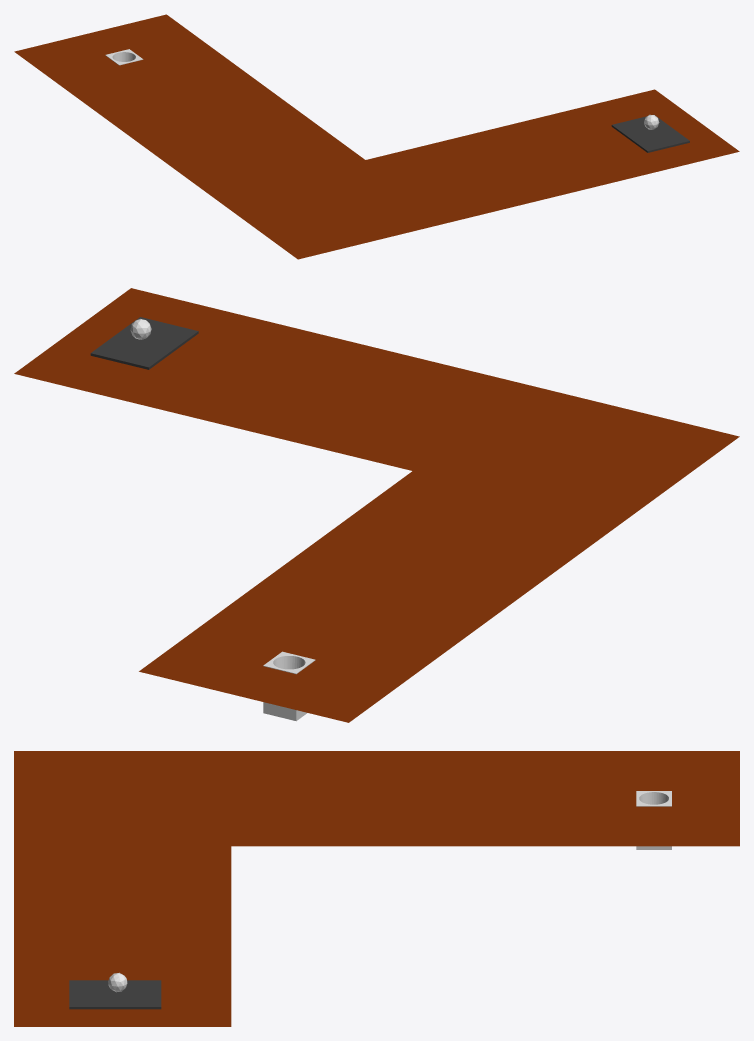
File: boilerplate_level_11.glb
3 renders of one model, top to bottom at view 1: azimuth 30°, elevation 25°; view 2: azimuth 150°, elevation 25°; view 3: azimuth 270°, elevation 25°, orthographic. The views are drawn at different scales.
Visible parts, largest first — view 1: Plane, Start; view 2: Plane, Start, Cup; view 3: Plane, Start, Cup.
Part boxes in pixels (x1,y1,x2,y2): Plane: (14, 14, 739, 259); Start: (611, 114, 689, 152); Plane: (14, 288, 739, 722); Start: (90, 317, 198, 369); Cup: (263, 651, 315, 721); Plane: (14, 751, 739, 1026); Start: (69, 980, 161, 1009); Cup: (636, 791, 671, 849).
Size of the model in its own units: 55.9 by 6.34 by 62.2.
